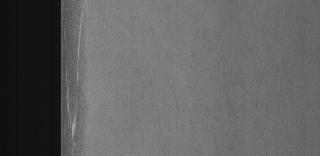silk spot: (63, 0, 105, 140)
